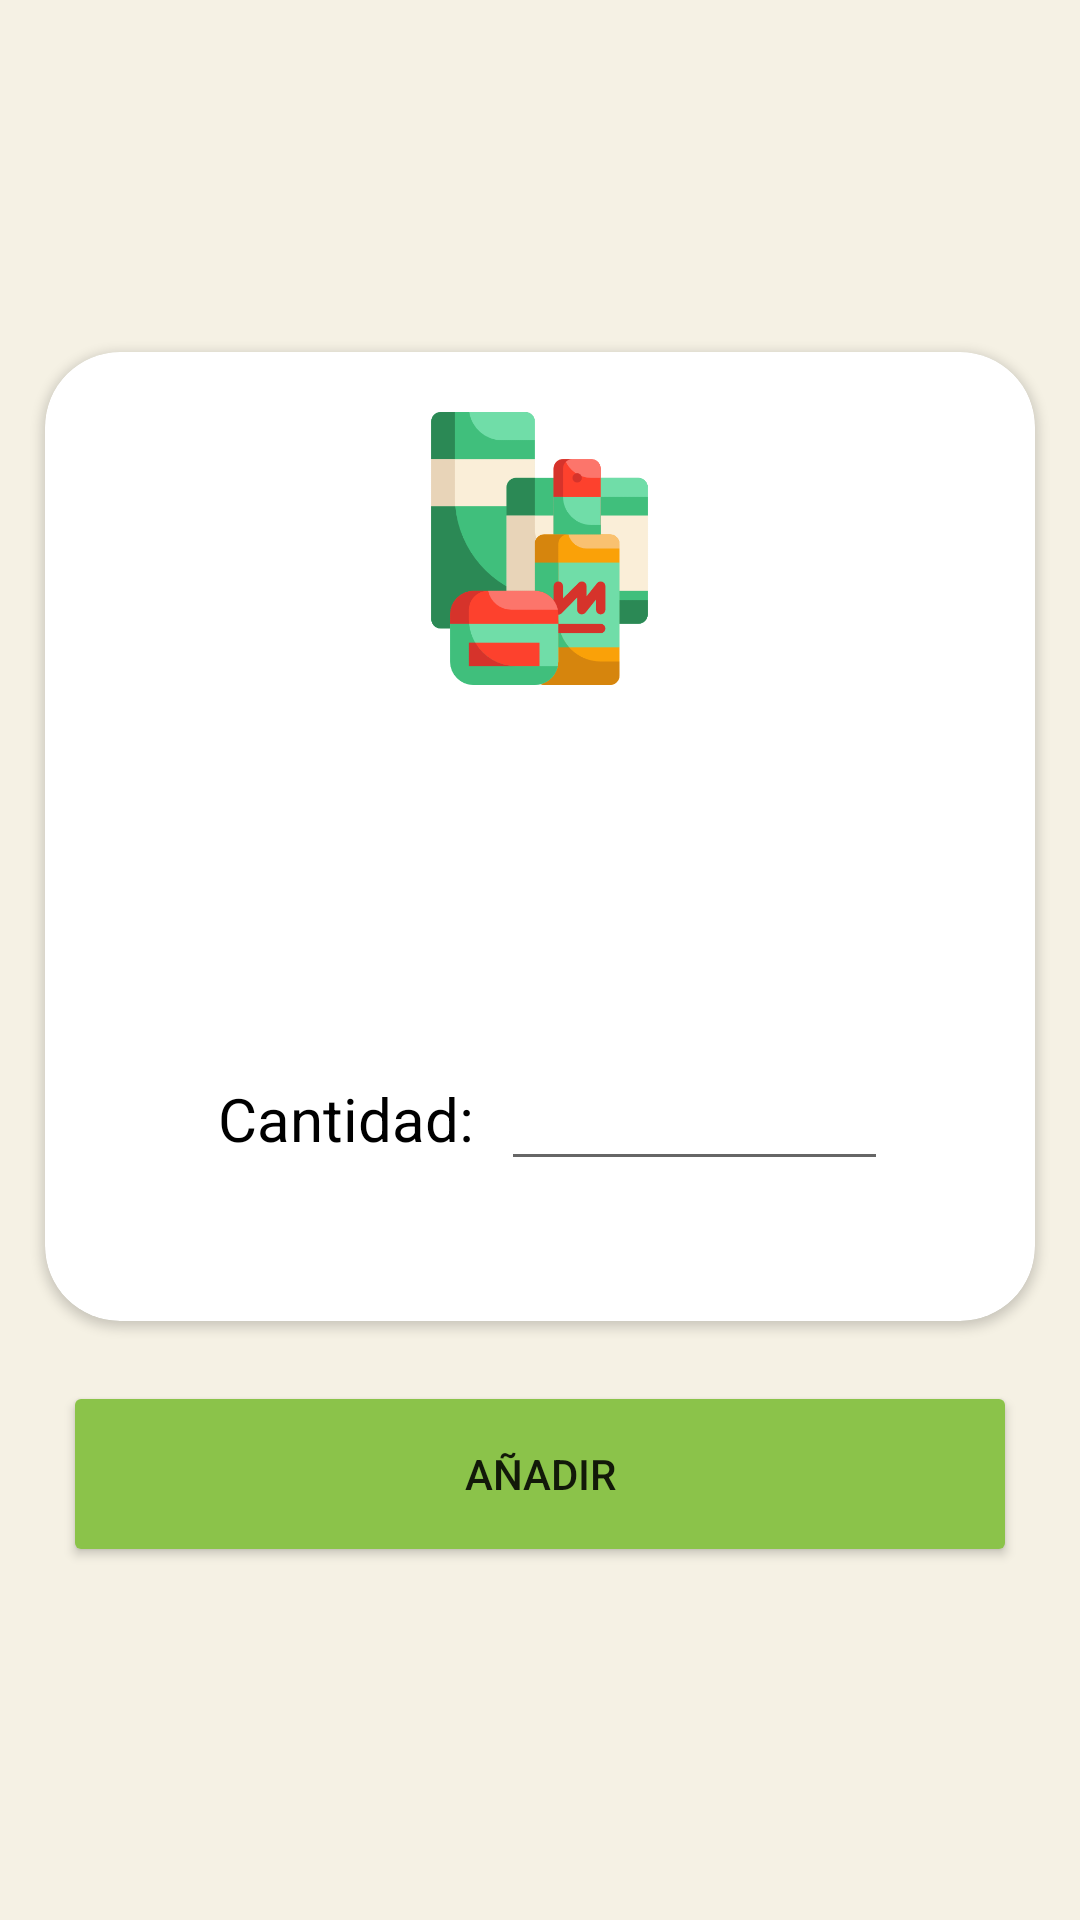

Icon click points for this 1080 x 1920 phone screenshot, format [x,y]:
prod: [539,548]
